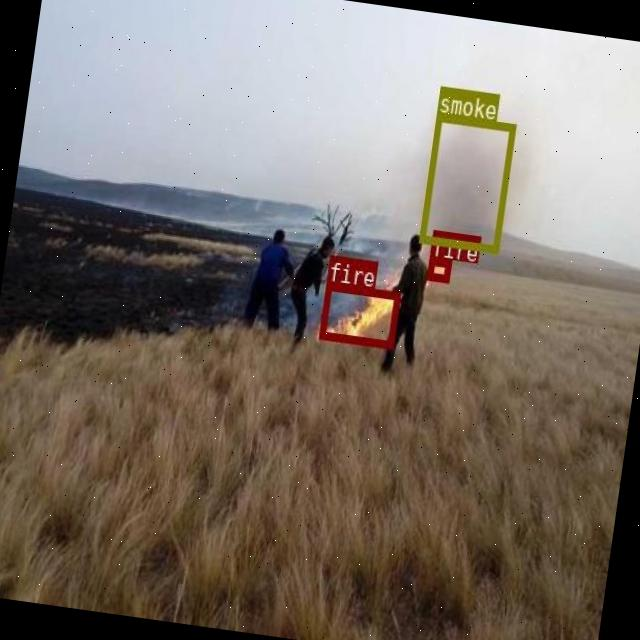fire: (318, 280, 399, 348), (427, 256, 451, 282)
smoke: (418, 112, 515, 251)
